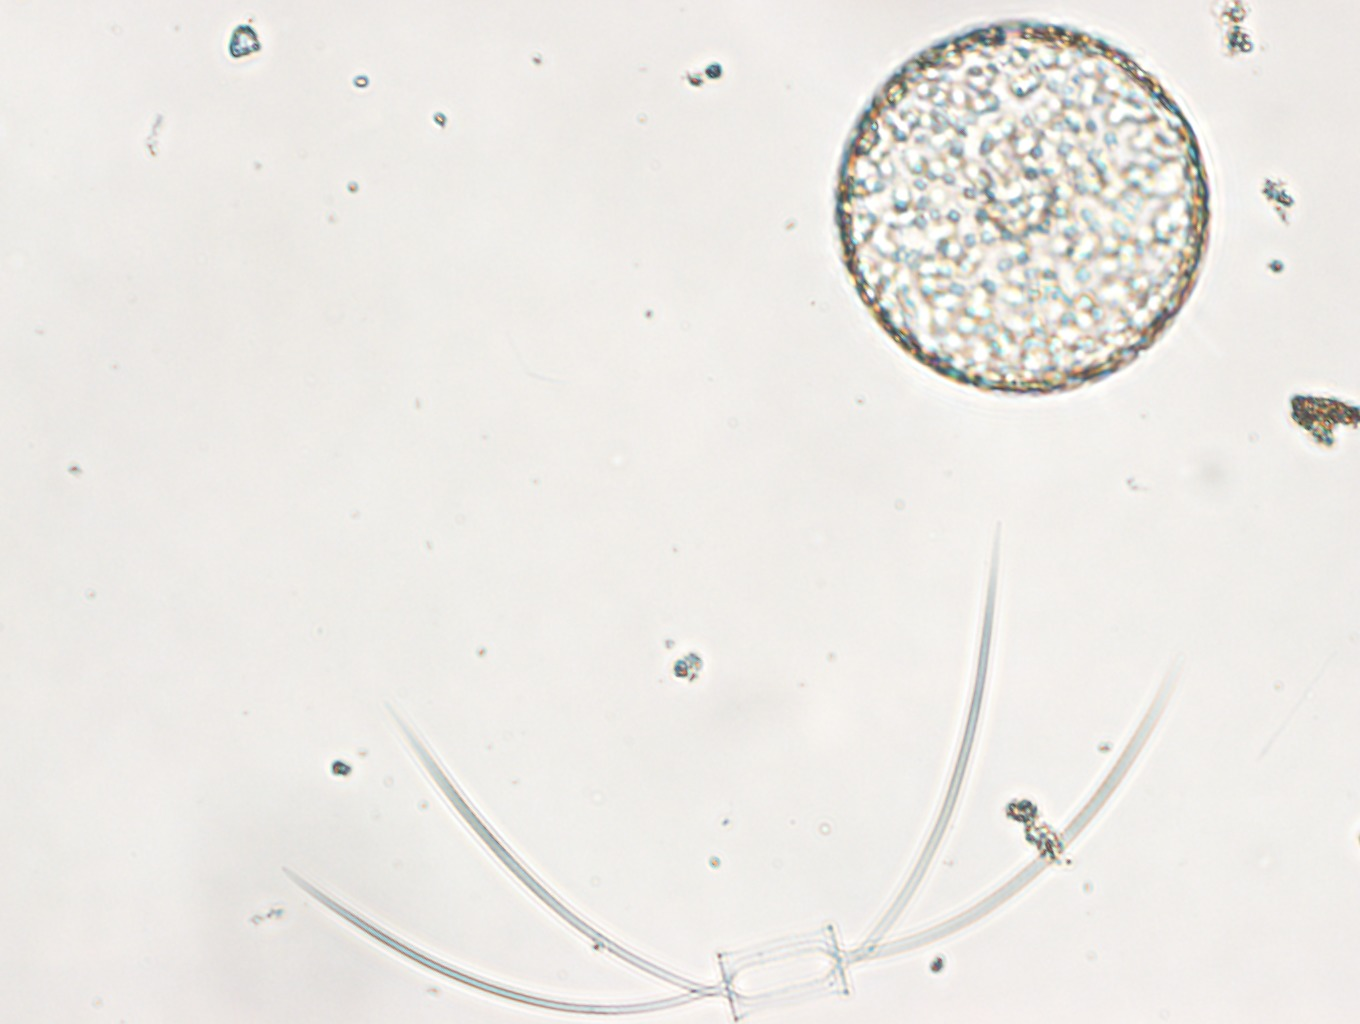chaetoceros: (280, 522, 1178, 1024)
coscinodiscus: (833, 17, 1209, 399)
